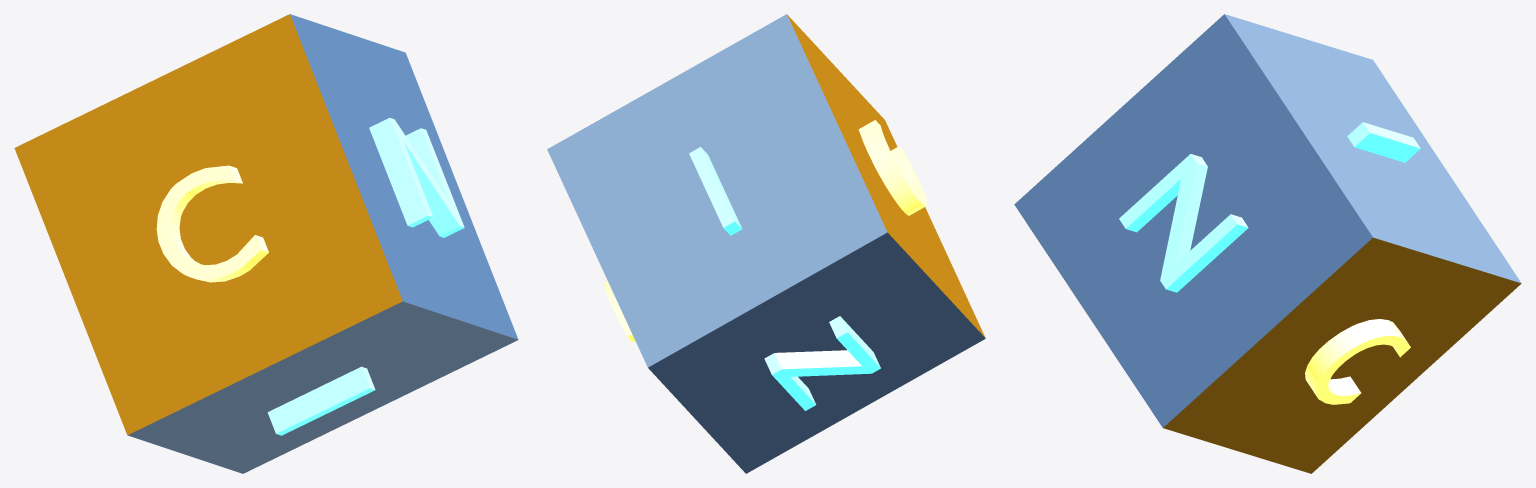
Rendered from inc3.gltf.
The picture shows the model from 3 angles, left to right: view 1: azimuth 30°, elevation 25°; view 2: azimuth 150°, elevation 25°; view 3: azimuth 270°, elevation 25°; orthographic projection. The views are drawn at different scales.
Visible parts, largest first — view 1: Cube, Text004, Text003, Text; view 2: Cube, Text005, Text003, Text001; view 3: Cube, Text004, Text002, Text001.
Part boxes in pixels (left/top/right/bottom): Cube: left=14, top=14, right=518, bottom=473; Text004: left=369, top=118, right=464, bottom=237; Text003: left=156, top=165, right=268, bottom=282; Text: left=267, top=366, right=375, bottom=435; Cube: left=547, top=14, right=985, bottom=473; Text005: left=764, top=316, right=880, bottom=410; Text003: left=858, top=120, right=927, bottom=215; Text001: left=689, top=147, right=741, bottom=235; Cube: left=1014, top=14, right=1521, bottom=473; Text004: left=1119, top=154, right=1248, bottom=292; Text002: left=1305, top=319, right=1410, bottom=404; Text001: left=1347, top=122, right=1420, bottom=162.
Bounding box in the file's own units: 2.83 × 3.41 × 3.41.
